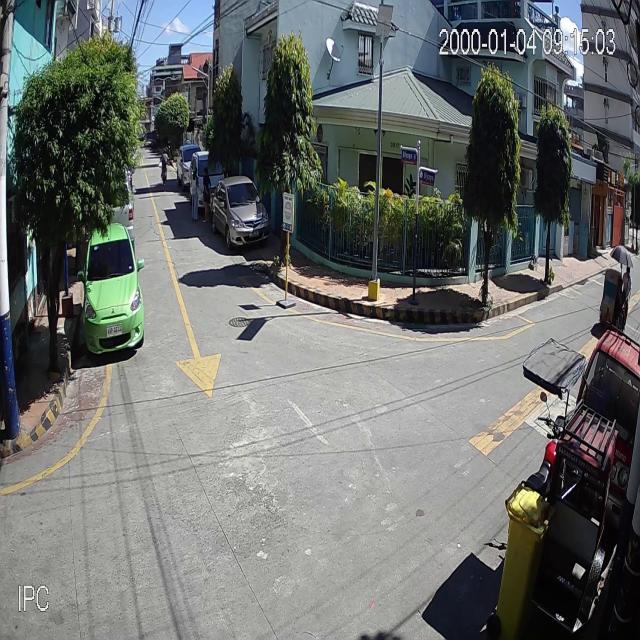standing: (201, 166, 214, 223)
walking: (189, 166, 201, 221)
